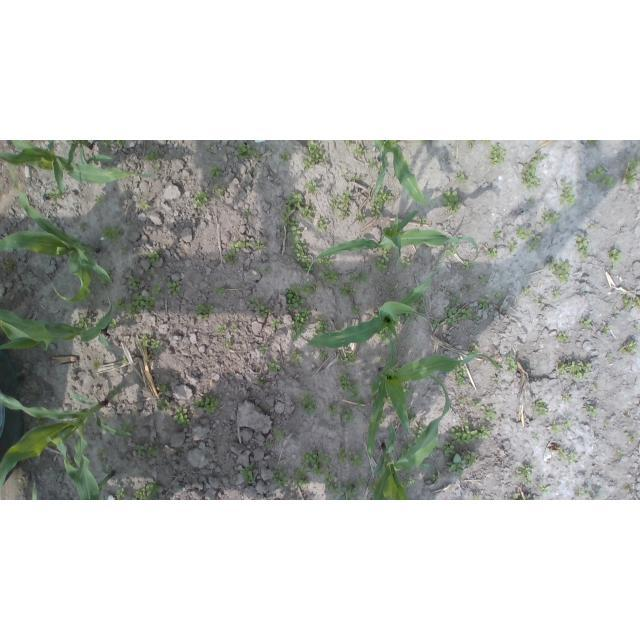Maize: (369, 329, 504, 456), (0, 161, 112, 303), (298, 245, 448, 351), (0, 388, 134, 501), (369, 371, 452, 500), (308, 212, 479, 263), (1, 141, 154, 196), (0, 293, 116, 352), (373, 141, 432, 206), (64, 141, 93, 166)
Weeds: (286, 228, 314, 273), (113, 293, 156, 320), (284, 280, 320, 311), (521, 150, 548, 190), (281, 192, 304, 227), (302, 140, 328, 170), (557, 359, 591, 381), (302, 451, 330, 477), (449, 421, 478, 446), (371, 190, 394, 219), (444, 305, 473, 327), (332, 189, 353, 219), (337, 371, 361, 397), (588, 166, 615, 189), (623, 153, 640, 187), (338, 445, 363, 468), (440, 187, 462, 213), (292, 312, 311, 341), (343, 475, 365, 500), (548, 258, 570, 282), (231, 238, 265, 253), (559, 181, 577, 208), (235, 143, 260, 162), (452, 363, 470, 389), (137, 480, 160, 500), (447, 453, 466, 477), (299, 392, 317, 416), (250, 298, 271, 318), (488, 144, 505, 168), (157, 385, 172, 412), (102, 227, 123, 246), (138, 332, 160, 350), (239, 462, 257, 484), (316, 268, 340, 284), (514, 464, 534, 483), (324, 472, 339, 496), (195, 301, 213, 321), (271, 466, 289, 486), (71, 314, 92, 331), (173, 408, 191, 427), (192, 190, 209, 210), (575, 235, 589, 259), (301, 201, 317, 222), (294, 468, 309, 488), (204, 395, 220, 413), (314, 317, 328, 337), (515, 226, 532, 242), (619, 340, 637, 355), (559, 449, 577, 464), (542, 211, 561, 225), (338, 349, 357, 363), (340, 408, 356, 424), (45, 188, 61, 204), (208, 164, 225, 179), (609, 248, 623, 266), (349, 271, 368, 284), (343, 173, 365, 184), (379, 246, 394, 262), (624, 294, 640, 309), (506, 353, 518, 373), (481, 406, 497, 421), (340, 283, 356, 298), (374, 329, 391, 343), (443, 440, 457, 457), (167, 280, 181, 297), (148, 248, 161, 266), (533, 400, 547, 416), (528, 236, 541, 253), (489, 356, 504, 370), (413, 425, 428, 439), (305, 179, 320, 193), (114, 486, 129, 500), (144, 148, 160, 161), (119, 420, 135, 433), (223, 251, 237, 265), (147, 444, 161, 458), (376, 258, 388, 274), (478, 424, 490, 440), (316, 216, 328, 232), (407, 407, 418, 424), (290, 350, 304, 363), (98, 451, 111, 465), (399, 312, 414, 324), (584, 405, 599, 417), (468, 340, 479, 356), (193, 396, 204, 412), (128, 274, 141, 287), (579, 317, 593, 329), (400, 443, 412, 457), (273, 427, 285, 441), (413, 296, 424, 311), (479, 298, 492, 310), (460, 260, 472, 273), (577, 488, 590, 500), (402, 474, 414, 487), (446, 244, 457, 258), (328, 403, 338, 418), (487, 247, 499, 259), (213, 185, 225, 197), (456, 172, 467, 185), (369, 481, 380, 494), (279, 150, 290, 163), (458, 395, 472, 405), (452, 292, 463, 304), (556, 332, 568, 343), (269, 360, 280, 372), (271, 317, 282, 329), (538, 483, 551, 493), (507, 241, 518, 252), (135, 444, 145, 456), (563, 419, 574, 429), (214, 285, 225, 295), (350, 305, 360, 316), (366, 159, 376, 170), (384, 392, 393, 404), (109, 317, 118, 329), (100, 140, 113, 148), (430, 318, 440, 328), (492, 291, 502, 301), (392, 361, 401, 372), (401, 260, 412, 269), (493, 228, 502, 239), (552, 423, 561, 434), (421, 461, 430, 472), (217, 324, 228, 333), (355, 145, 364, 156), (403, 386, 414, 395), (114, 140, 126, 148), (379, 412, 386, 425), (587, 141, 600, 148), (480, 275, 489, 285), (601, 325, 611, 334), (564, 394, 573, 404), (431, 444, 441, 453), (416, 216, 426, 225), (97, 276, 107, 285), (152, 284, 161, 294), (380, 355, 388, 366), (464, 282, 472, 293), (260, 267, 272, 274), (138, 203, 150, 210), (628, 436, 637, 445), (258, 377, 266, 387), (356, 212, 366, 220), (432, 474, 440, 483), (320, 348, 328, 357), (105, 268, 113, 277), (110, 389, 119, 397), (120, 356, 128, 365), (464, 141, 474, 148), (31, 386, 41, 393), (523, 287, 531, 295), (7, 263, 15, 271), (93, 361, 101, 369), (265, 439, 273, 447), (344, 141, 353, 148), (96, 195, 105, 202), (531, 431, 538, 440), (35, 416, 41, 426), (472, 401, 480, 408), (77, 221, 85, 228), (371, 396, 378, 404), (225, 340, 231, 349), (356, 399, 365, 405), (472, 494, 481, 500), (379, 161, 384, 171), (605, 420, 612, 427), (473, 317, 480, 324), (243, 209, 250, 216), (122, 246, 129, 253), (148, 270, 155, 277), (512, 493, 520, 499), (260, 347, 268, 353), (64, 140, 72, 146), (528, 197, 534, 205), (374, 471, 383, 476), (328, 424, 337, 429), (377, 380, 382, 389), (481, 140, 492, 144), (607, 353, 613, 360), (494, 378, 500, 385), (206, 145, 212, 152), (45, 351, 52, 357), (616, 452, 624, 457), (525, 493, 531, 499), (553, 292, 560, 297), (625, 488, 631, 493), (593, 383, 598, 389), (389, 286, 395, 291), (537, 298, 543, 303), (232, 323, 237, 329), (246, 168, 252, 173), (92, 277, 96, 284), (156, 164, 161, 169), (590, 224, 596, 228)
